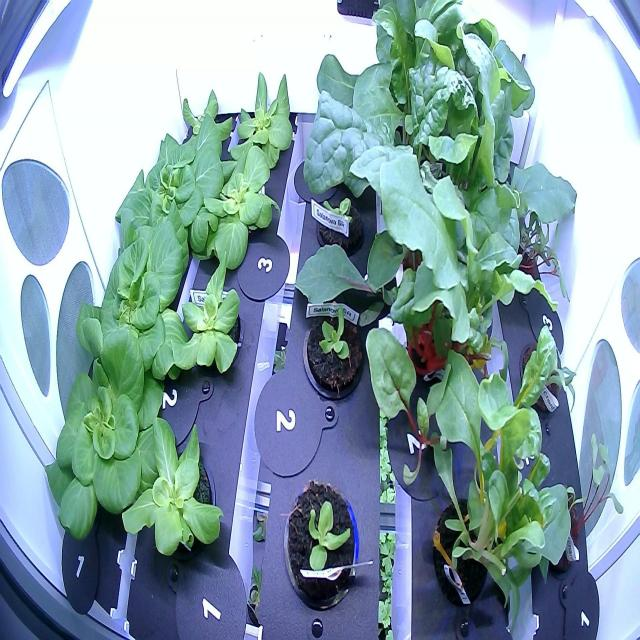young: (40, 310, 172, 552), (67, 206, 191, 394), (108, 120, 242, 274), (118, 408, 232, 576), (272, 469, 368, 615), (185, 140, 282, 276), (164, 248, 248, 381), (296, 284, 372, 406), (221, 60, 300, 169), (155, 80, 238, 178), (309, 174, 370, 260)
